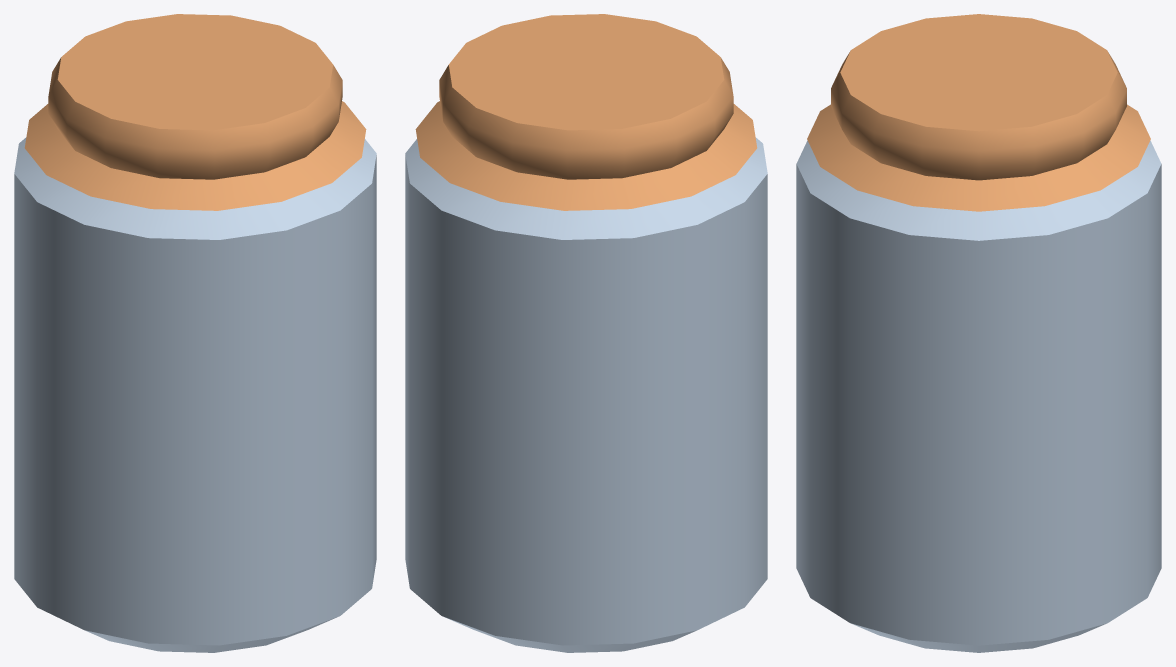
Rendered from defJar.fbx.
The picture shows the model from 3 angles, left to right: view 1: azimuth 30°, elevation 25°; view 2: azimuth 150°, elevation 25°; view 3: azimuth 270°, elevation 25°; orthographic projection.
Parts seen in each view (by area): view 1: BaseJar; view 2: BaseJar; view 3: BaseJar.
Part boxes in pixels (left/top/right/bottom): BaseJar: left=14, top=14, right=376, bottom=652; BaseJar: left=405, top=14, right=767, bottom=652; BaseJar: left=796, top=14, right=1161, bottom=652.
Bounding box in the file's own units: 258 × 406 × 258.
